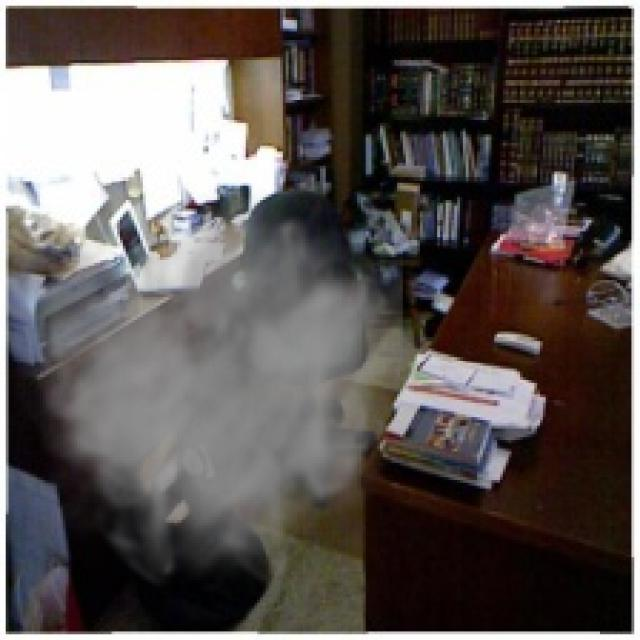smoke: (0, 186, 403, 591)
